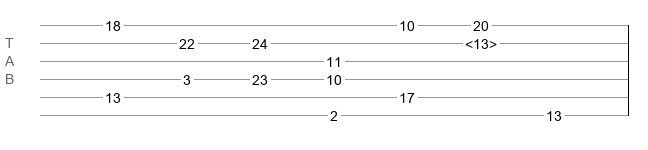10: (326, 72, 342, 82), (399, 18, 415, 28)
11: (326, 54, 342, 64)
13: (105, 90, 121, 100), (546, 108, 562, 118)
17: (399, 90, 415, 100)
18: (105, 18, 121, 28)
2: (330, 108, 338, 118)
20: (473, 18, 489, 28)
22: (179, 36, 195, 46)
23: (252, 72, 268, 82)
24: (252, 36, 268, 46)
3: (183, 72, 191, 82)
harmonic: (465, 36, 497, 46)
